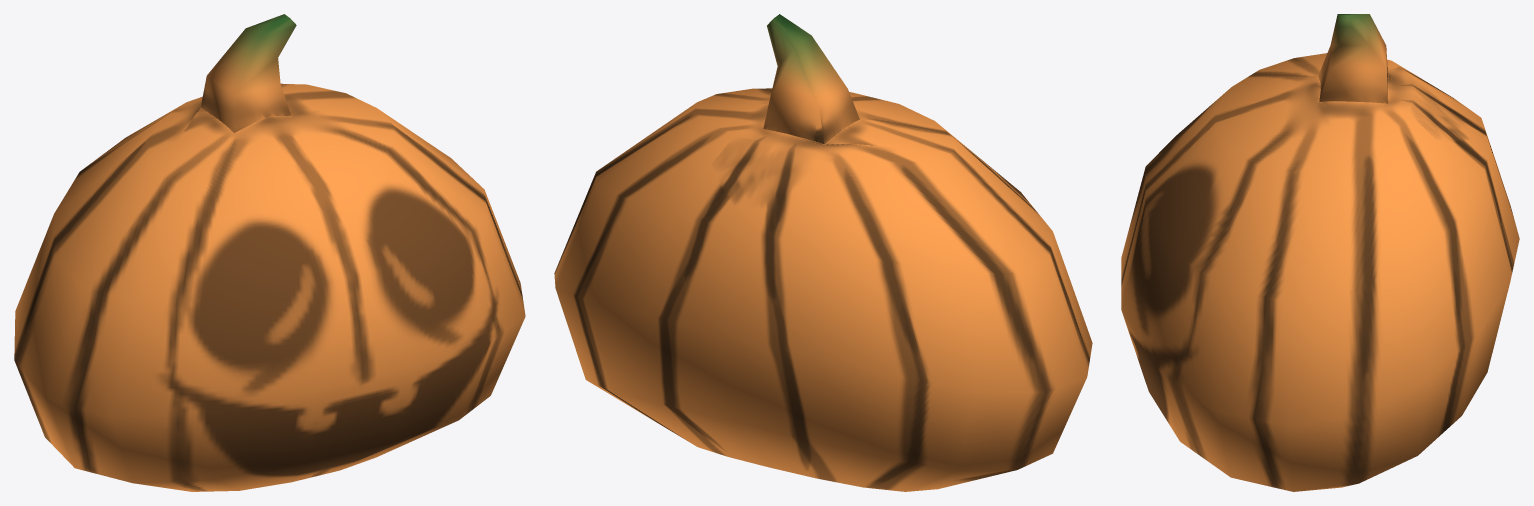
The model's file is pumpkin 1.fbx.
The picture shows the model from 3 angles, left to right: view 1: azimuth 30°, elevation 25°; view 2: azimuth 150°, elevation 25°; view 3: azimuth 270°, elevation 25°; orthographic projection. The views are drawn at different scales.
Visible parts, largest first — view 1: Sphere; view 2: Sphere; view 3: Sphere.
Part boxes in pixels (x1,y1,x2,y2): Sphere: (14,14,525,491); Sphere: (554,14,1092,491); Sphere: (1121,14,1519,491).
Size of the model in its own units: 96.73 by 82.3 by 68.13.
